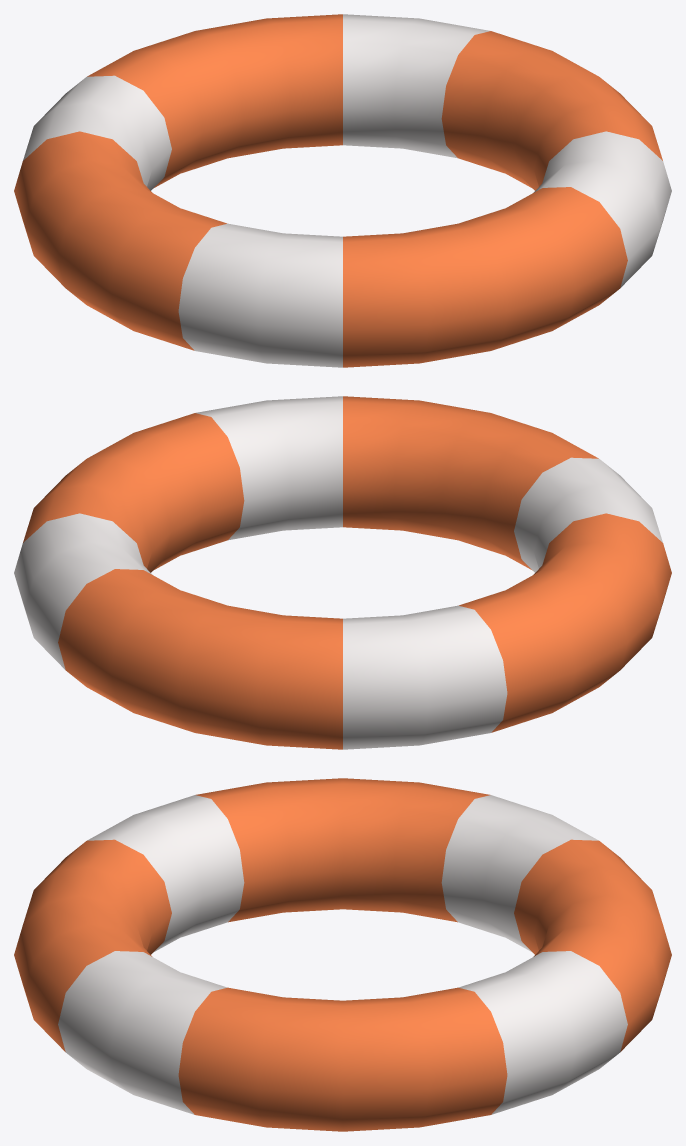
The model's file is 0af6c84c-f551-4a9b-b676-1168bec6a627.glb.
The picture shows the model from 3 angles, top to bottom: view 1: azimuth 30°, elevation 25°; view 2: azimuth 150°, elevation 25°; view 3: azimuth 270°, elevation 25°; orthographic projection.
Visible parts, largest first — view 1: Lifebuoy; view 2: Lifebuoy; view 3: Lifebuoy.
Part boxes in pixels (left/top/right/bottom): Lifebuoy: left=14, top=14, right=671, bottom=367; Lifebuoy: left=14, top=396, right=671, bottom=749; Lifebuoy: left=14, top=778, right=671, bottom=1131.
Size of what is drawn, in the model's own units: 0.625 by 0.125 by 0.625.
1 material, 1 textured.
